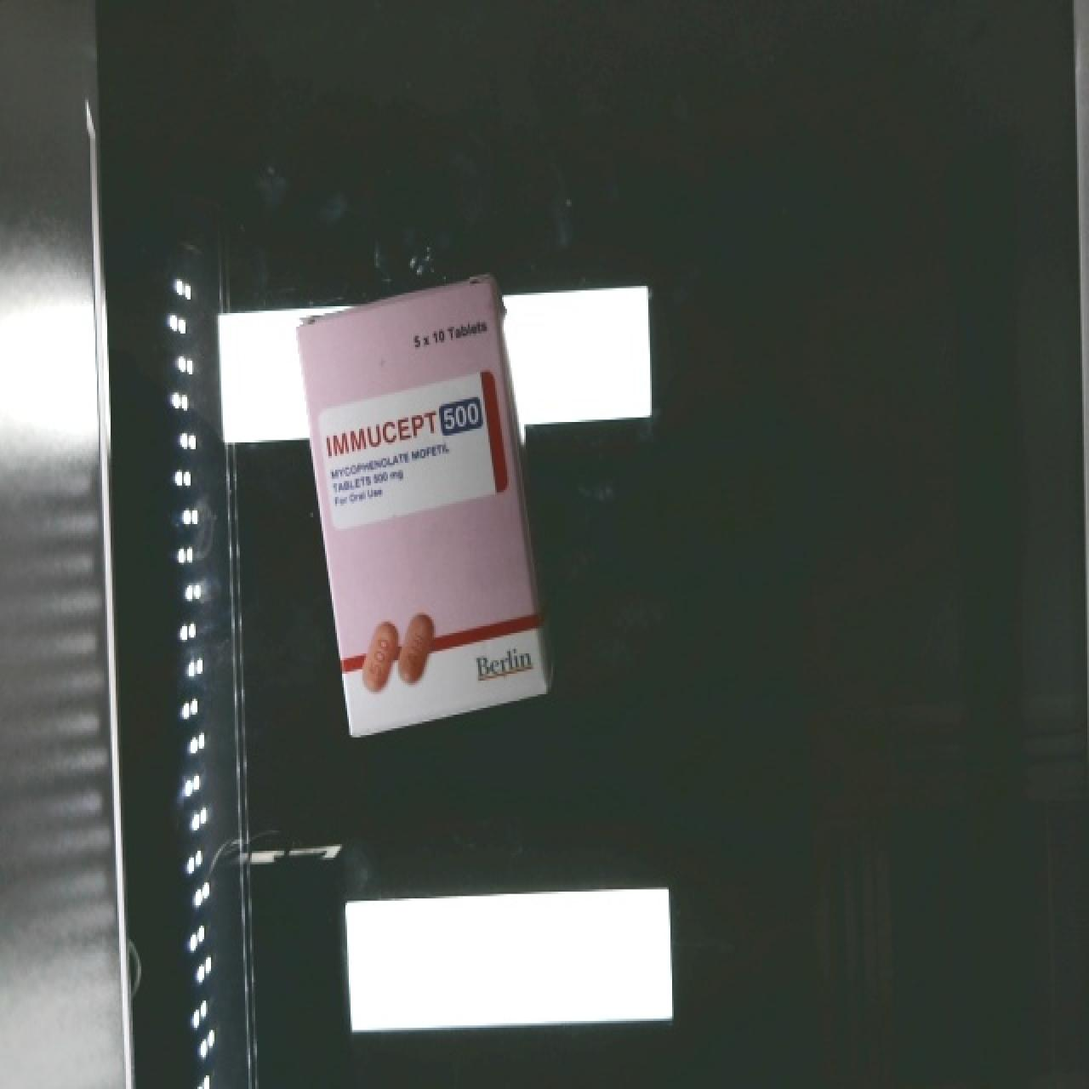medicine_label_obb: (315, 381, 498, 471)
